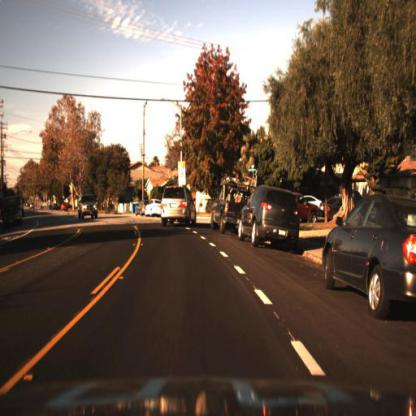car: (323, 196, 416, 322), (235, 185, 301, 249), (211, 183, 254, 236), (161, 184, 199, 232), (320, 189, 347, 221), (78, 192, 102, 220), (2, 205, 25, 230), (145, 198, 165, 219), (136, 199, 147, 217), (61, 201, 73, 215)
truck: (1, 186, 26, 230), (3, 181, 27, 206)
